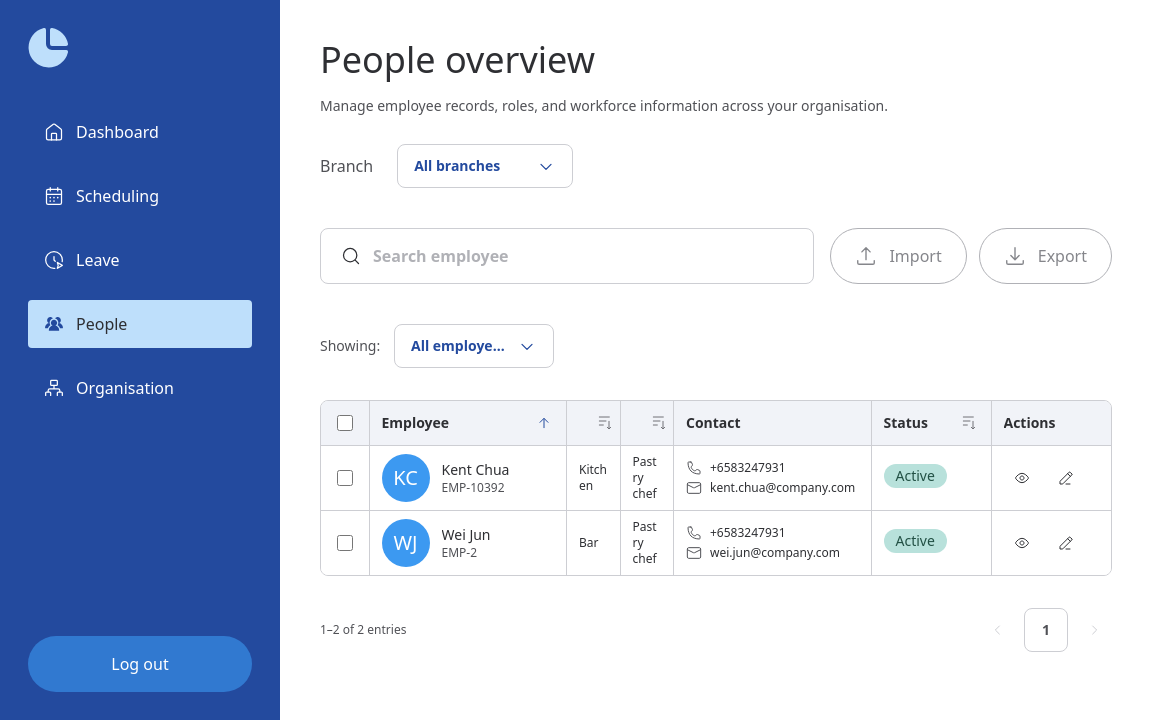
A person's profile › opens from the People list and shows every field, a dash for what isn't set
Click the link named "View Kent Chua".
click(1022, 478)  # box [1014, 470, 1030, 486]
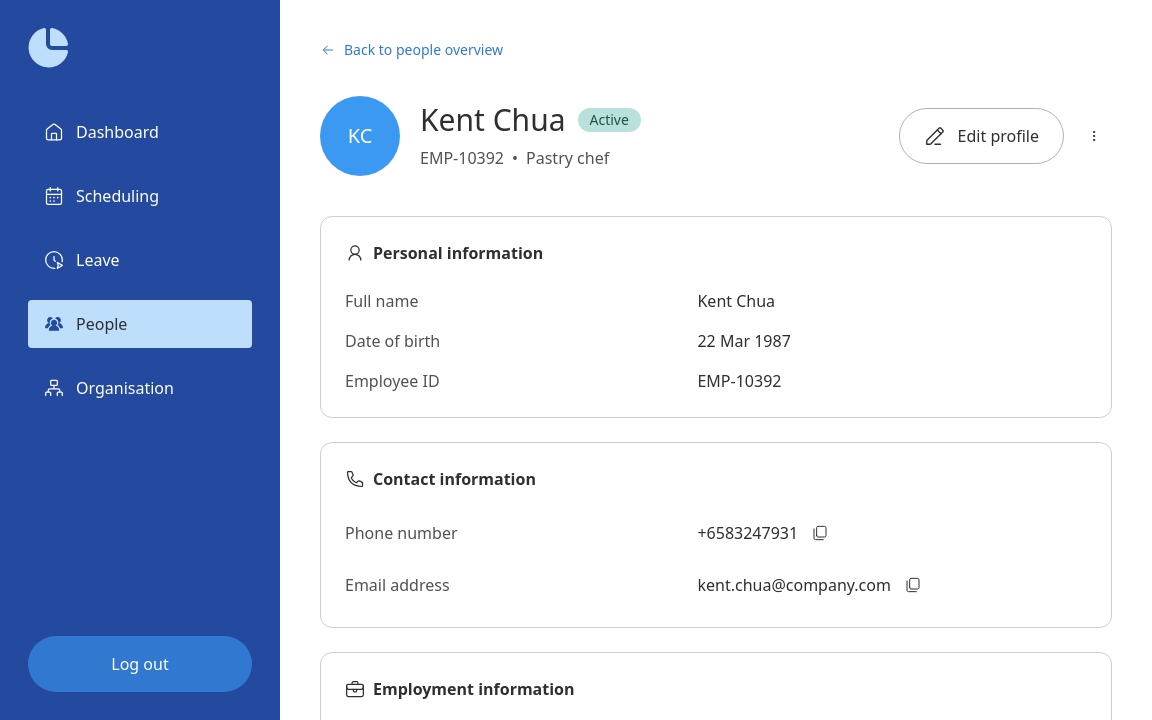
Now the heading "Kent Chua" is shown, box [420, 102, 566, 138]
Now the text "EMP-10392" next to "KC" is shown, box [420, 147, 504, 169]
Now the button named "Copy phone number" is shown, box [802, 515, 838, 551]
